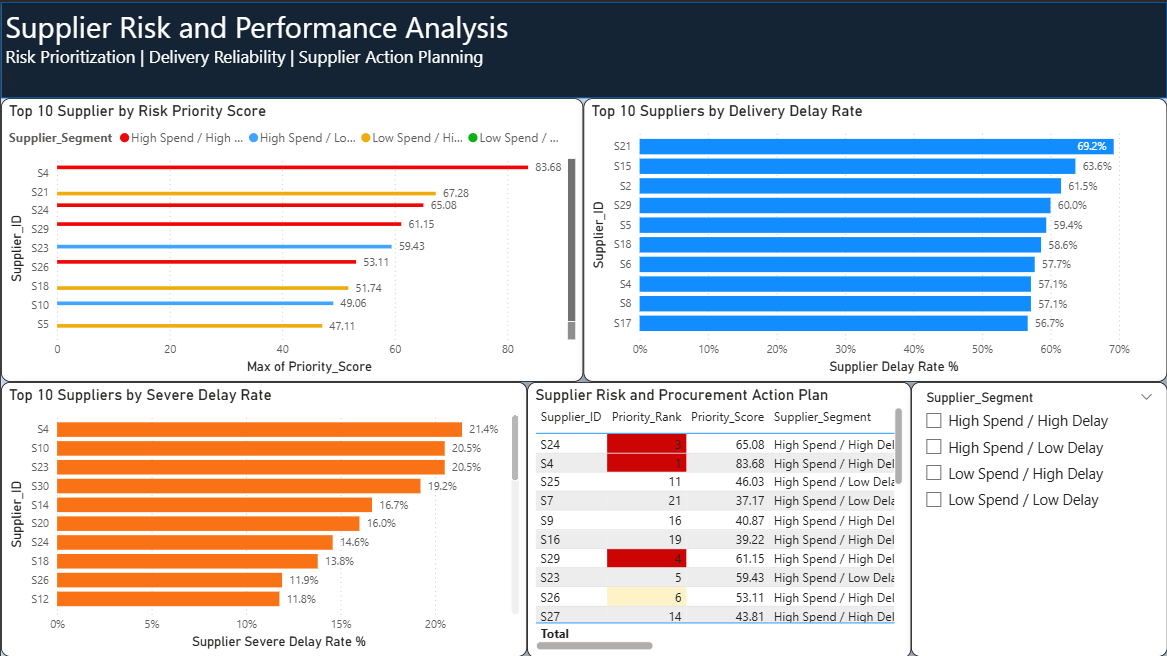

The dashboard page shown, as its layout file describes it:
{"tool":"powerbi","page":{"name":"Supplier Risk Analysis","canvas":[1280,720],"ordinal":1},"visuals":[{"type":"clusteredBarChart","title":"Top 10 Supplier by Risk Priority Score","fields":{"Category":["supplier_scorecard.Supplier_ID"],"Y":["Max(supplier_scorecard.Priority_Score)"],"Series":["supplier_scorecard.Supplier_Segment"]},"box":[10.2,0,578.2,336.5],"z":0},{"type":"clusteredBarChart","title":"Top 10 Suppliers by Delivery Delay Rate","fields":{"Category":["supplier_scorecard.Supplier_ID"],"Y":["supplier_scorecard.Supplier Delay Rate %"]},"box":[658.4,1.5,578.2,335],"z":1},{"type":"clusteredBarChart","title":"Top 10 Suppliers by Severe Delay Rate","fields":{"Category":["supplier_scorecard.Supplier_ID"],"Y":["supplier_scorecard.Supplier Severe Delay Rate %"]},"box":[9.1,346,568.5,335.3],"z":2},{"type":"tableEx","title":"Supplier Risk and Procurement Action Plan","fields":{"Values":["supplier_scorecard.Supplier_ID","supplier_scorecard.Priority_Rank","supplier_scorecard.Priority_Score","supplier_scorecard.Supplier_Segment","supplier_scorecard.Total_Spend_USD","supplier_scorecard.Supplier Delay Rate %","supplier_scorecard.Supplier Severe Delay Rate %","supplier_action_plan.Recommended_Review"]},"box":[577.7,385.6,420.7,333.8],"z":3},{"type":"slicer","fields":{"Values":["supplier_scorecard.Supplier_Segment"]},"box":[998.3,359.7,266.7,333.8],"z":4}]}

Visuals, with their boxes in screenshot pixels (x1, y1, x2, y2), scaled from the page's 1280x720 canvas onto the 1167x656 screenshot:
"Top 10 Supplier by Risk Priority Score" clusteredBarChart: region(9, 0, 536, 307)
"Top 10 Suppliers by Delivery Delay Rate" clusteredBarChart: region(600, 1, 1127, 307)
"Top 10 Suppliers by Severe Delay Rate" clusteredBarChart: region(8, 315, 527, 621)
"Supplier Risk and Procurement Action Plan" tableEx: region(527, 351, 910, 655)
slicer - supplier_scorecard.Supplier_Segment: region(910, 328, 1153, 632)
